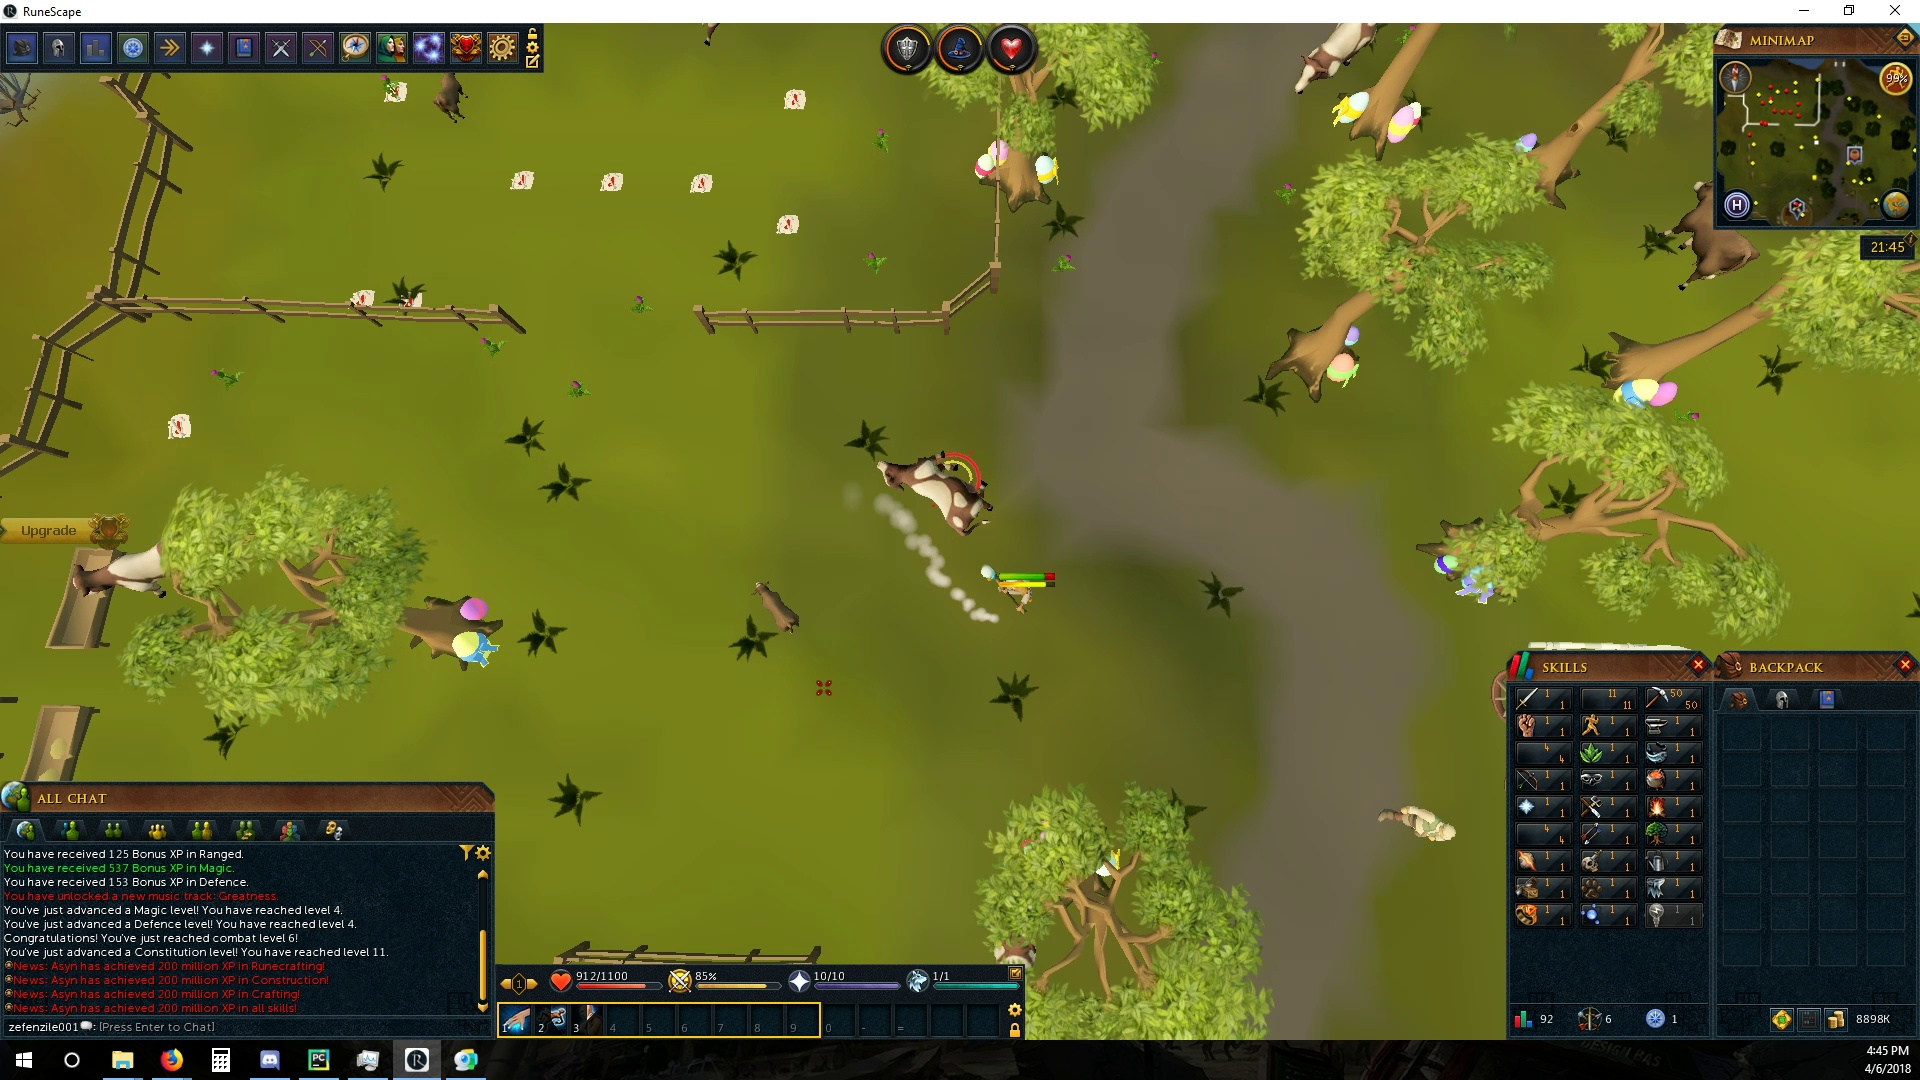calf: (750, 579, 803, 638), (429, 71, 473, 124)
cow: (874, 448, 1000, 539), (1660, 182, 1758, 291), (61, 539, 185, 611), (1290, 24, 1381, 96)
cow_drop: (165, 407, 194, 440), (347, 285, 380, 310), (384, 79, 411, 108), (394, 287, 429, 310), (781, 84, 807, 113), (774, 211, 802, 237), (506, 167, 539, 189), (688, 170, 717, 194), (596, 173, 629, 193)
